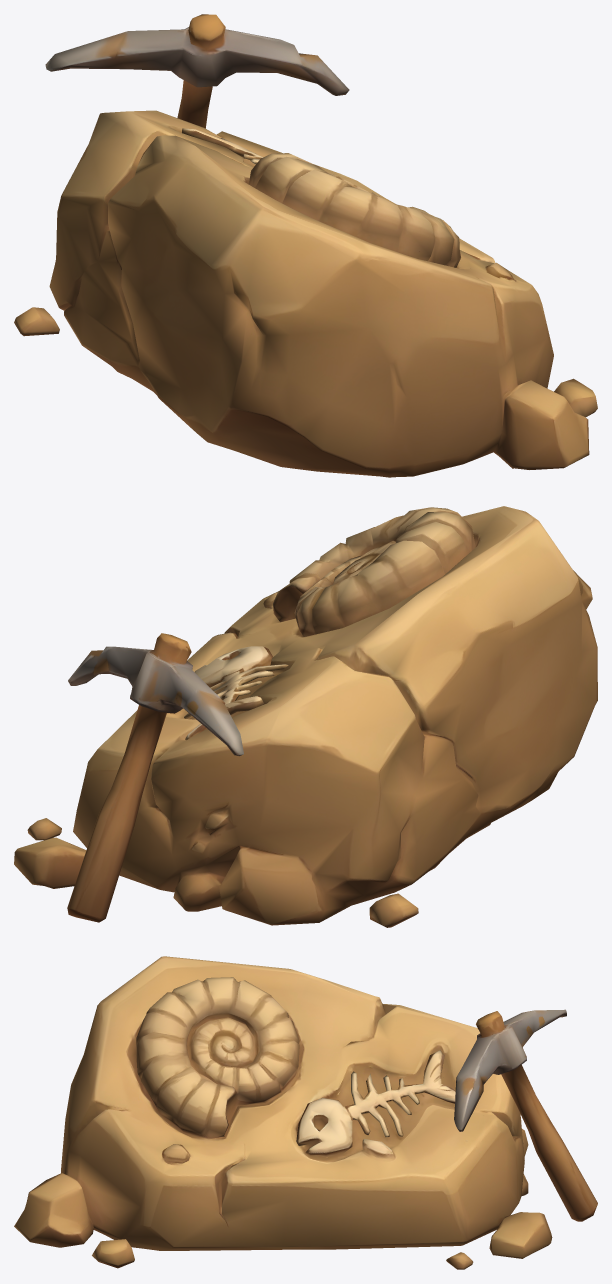
3 views of the same model, one above another, from view 1: azimuth 30°, elevation 25°; view 2: azimuth 150°, elevation 25°; view 3: azimuth 270°, elevation 25° (orthographic). The views are drawn at different scales.
Parts seen in each view (by area): view 1: tripo_node_300ec686-d053-449c-9820-9e76232bf09b; view 2: tripo_node_300ec686-d053-449c-9820-9e76232bf09b; view 3: tripo_node_300ec686-d053-449c-9820-9e76232bf09b.
Part boxes in pixels (x1,y1,x2,y2): tripo_node_300ec686-d053-449c-9820-9e76232bf09b: (14,14,597,477); tripo_node_300ec686-d053-449c-9820-9e76232bf09b: (14,506,597,927); tripo_node_300ec686-d053-449c-9820-9e76232bf09b: (14,956,597,1269).
Size of the model in its own units: 0.5851 by 0.3757 by 1.
Materials: 1 (1 with a texture image).
